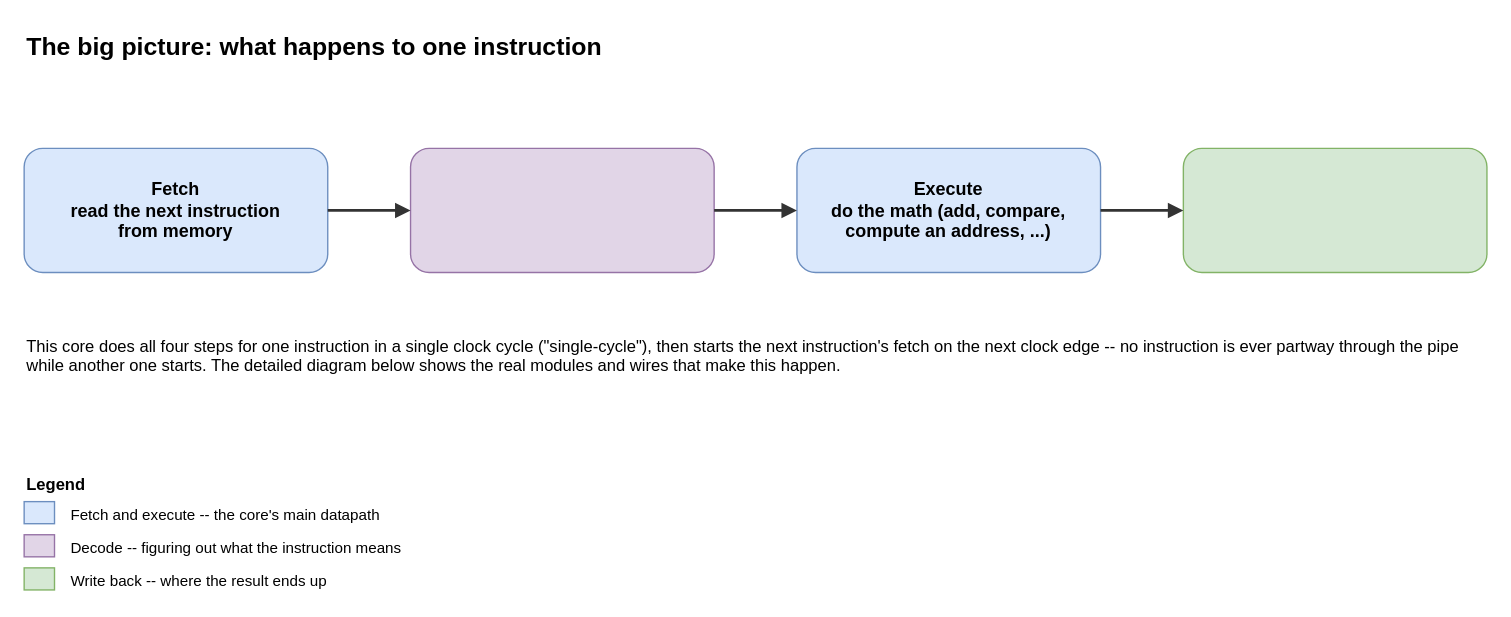
The diagram is 1511 pixels wide and 617 high, and some of its shapes have lost their labels. The centre of each missing label's shape, as x and y in pixels:
Decode figure out what it means, read any registers it needs: point (561, 210)
Write back save the result (register or memory): point (1334, 210)
